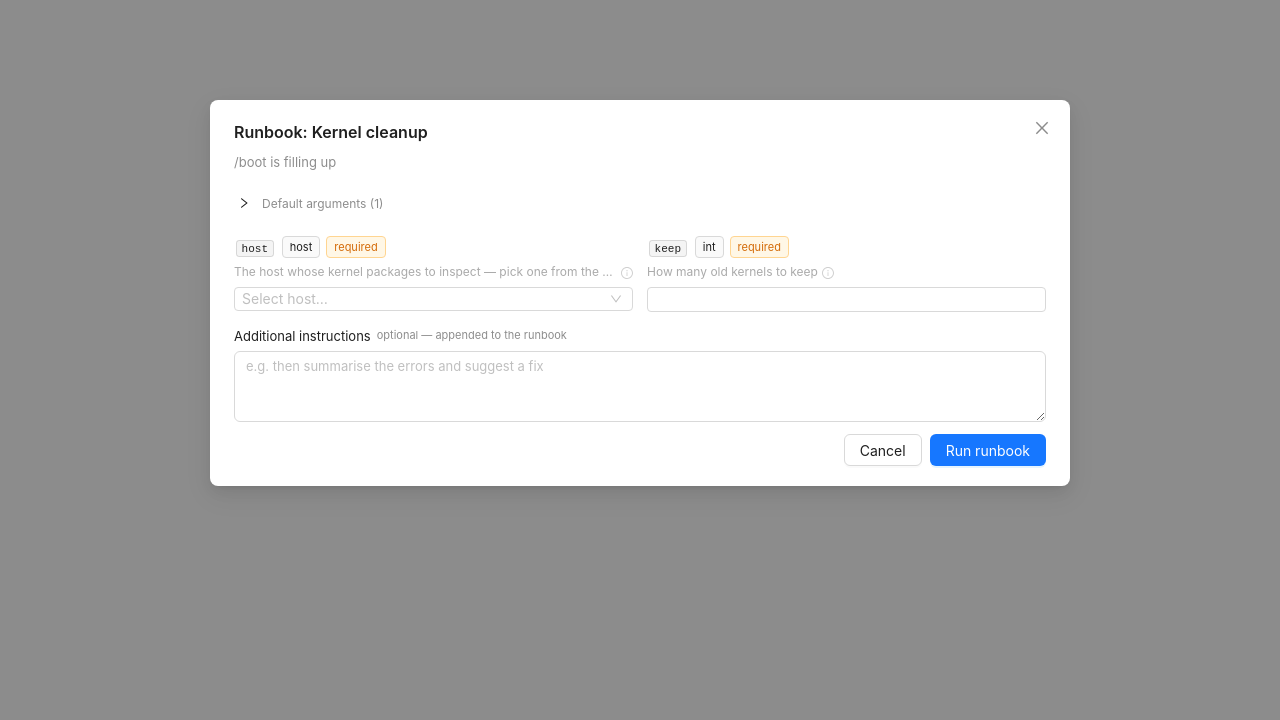
Test case: RunbookRunModal layout › still validates required params
Click the button "Run runbook": {"x": 988, "y": 450} x1=930 y1=434 x2=1046 y2=466
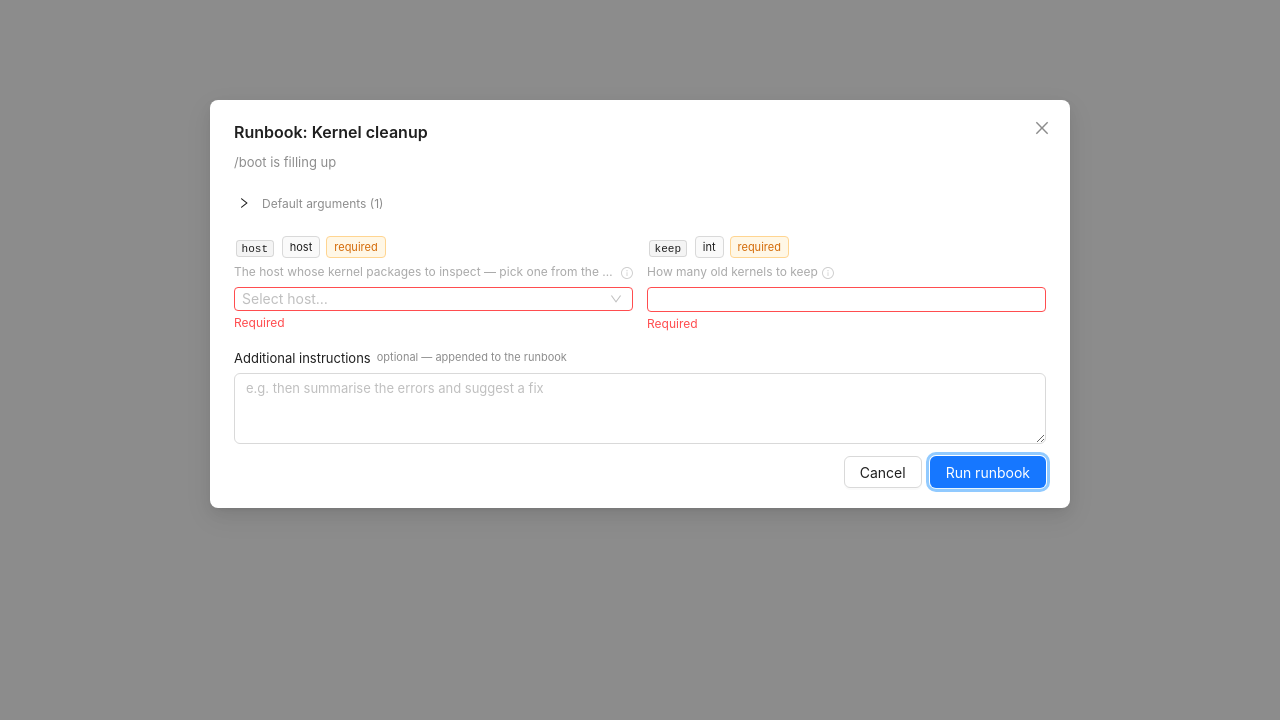
expect the text "Required" is shown 2 times: met, box x1=234 y1=315 x2=285 y2=330; x1=647 y1=316 x2=698 y2=331
